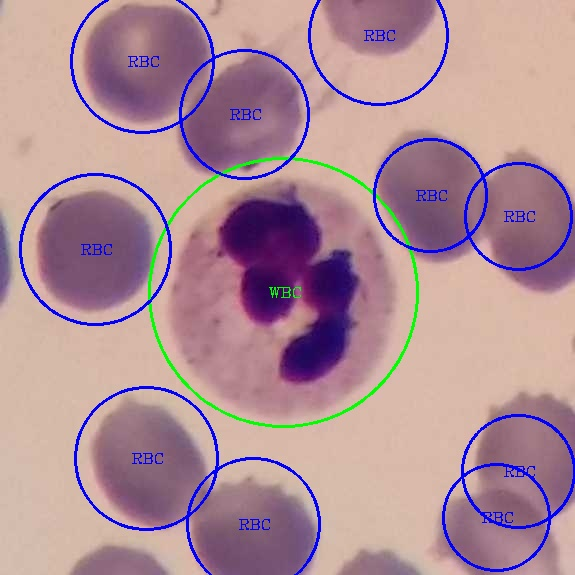RBC: (28, 186, 164, 321), (75, 2, 218, 130), (84, 396, 213, 536), (176, 48, 310, 179), (373, 126, 490, 269), (473, 386, 573, 532), (480, 145, 573, 300), (189, 473, 326, 573), (426, 486, 571, 572)
WBC: (169, 176, 394, 416)
